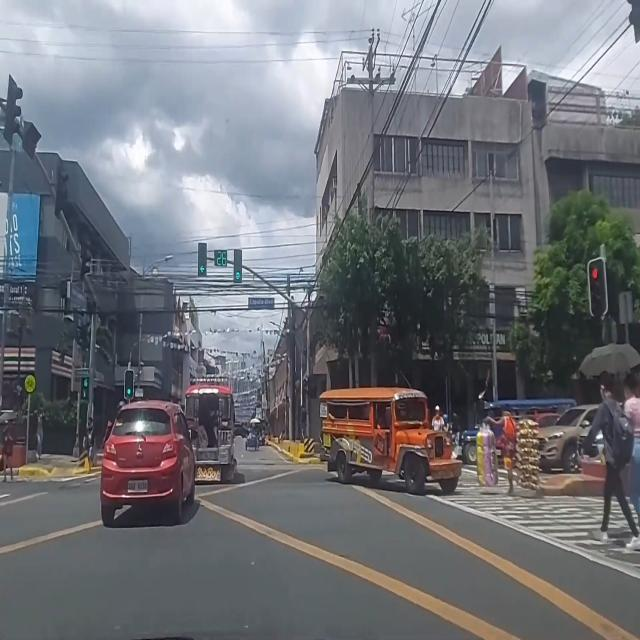car: (100, 400, 195, 528), (538, 402, 602, 474)
jeepney: (319, 388, 462, 495), (460, 399, 578, 465), (184, 382, 237, 482)
tricycle: (245, 418, 262, 452)
